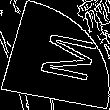M_W: (19, 26, 91, 84)
